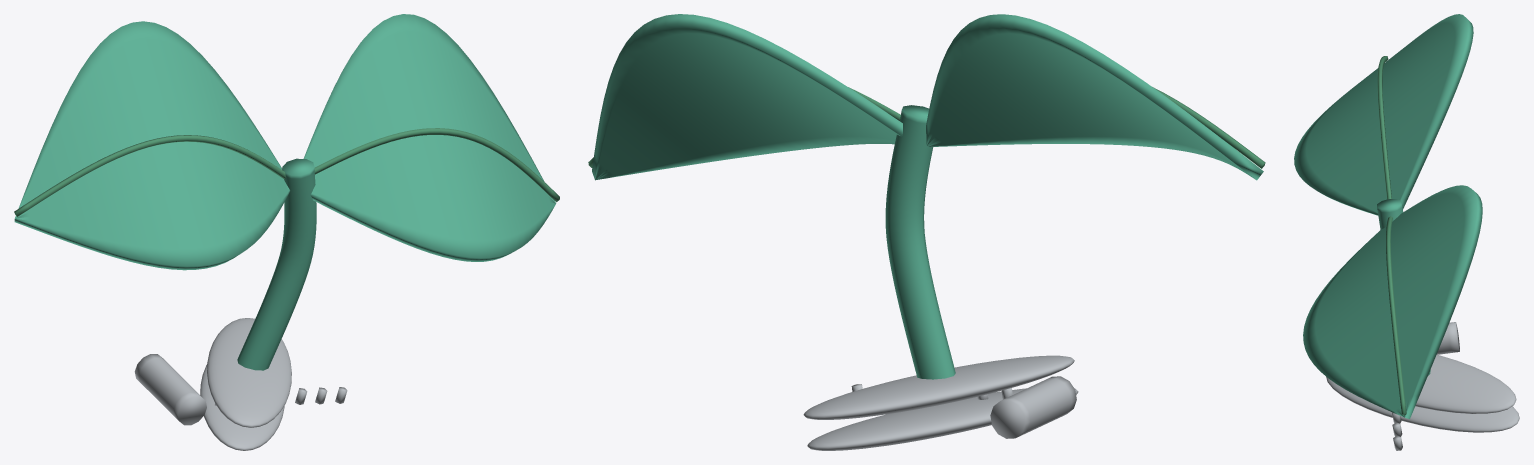
Rendered from Feminine-curls--ears-sprout.glb.
3 renders of one model, left to right at view 1: azimuth 30°, elevation 25°; view 2: azimuth 150°, elevation 25°; view 3: azimuth 270°, elevation 25°, orthographic. The views are drawn at different scales.
Parts seen in each view (by area): view 1: 226 extra / Accessory / mint226, 226 extra / Sprout / clip silver235, 226 extra / Sprout / leaf vein235; view 2: 226 extra / Accessory / mint226, 226 extra / Sprout / clip silver235, 226 extra / Sprout / leaf vein235; view 3: 226 extra / Accessory / mint226, 226 extra / Sprout / clip silver235, 226 extra / Sprout / leaf vein235.
Part boxes in pixels (x1=…): 226 extra / Accessory / mint226: x1=14, y1=14, x2=556, y2=370; 226 extra / Sprout / clip silver235: x1=134, y1=318, x2=347, y2=450; 226 extra / Sprout / leaf vein235: x1=14, y1=128, x2=559, y2=216; 226 extra / Accessory / mint226: x1=592, y1=14, x2=1263, y2=379; 226 extra / Sprout / clip silver235: x1=803, y1=355, x2=1078, y2=450; 226 extra / Sprout / leaf vein235: x1=588, y1=87, x2=1265, y2=168; 226 extra / Accessory / mint226: x1=1294, y1=14, x2=1482, y2=418; 226 extra / Sprout / clip silver235: x1=1326, y1=322, x2=1519, y2=450; 226 extra / Sprout / leaf vein235: x1=1377, y1=56, x2=1406, y2=415.
Size of the model in its own units: 0.2652 by 0.1796 by 0.104.
